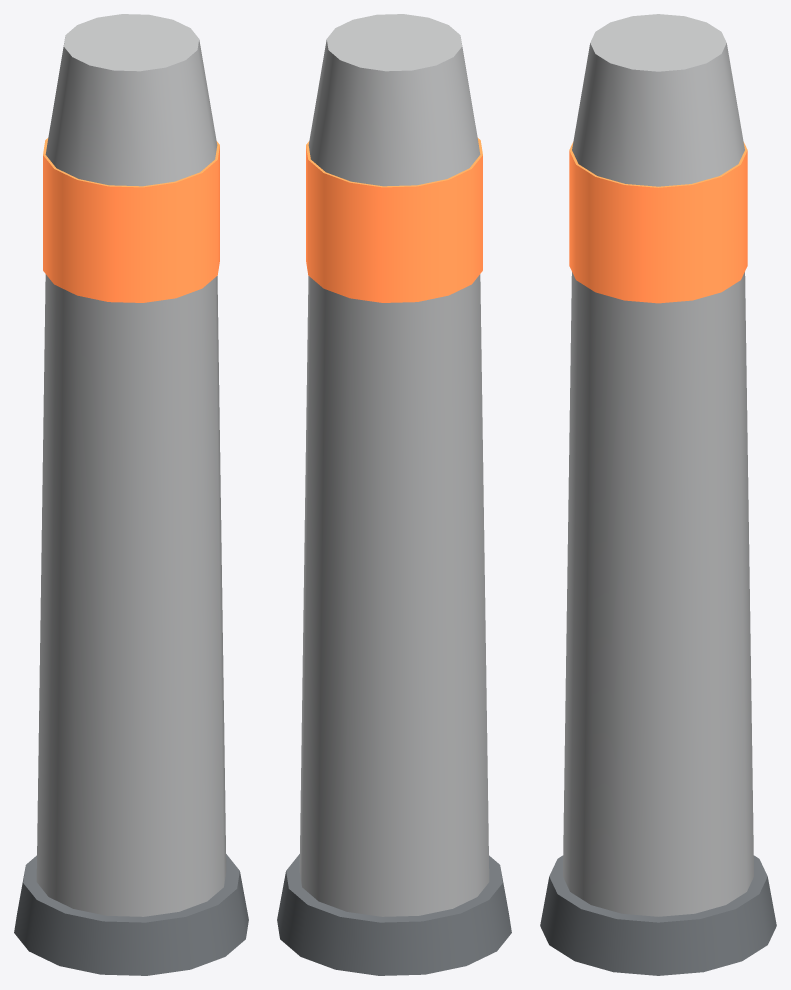
Rendered from bollard.glb.
3 views of the same model, side by side, from view 1: azimuth 30°, elevation 25°; view 2: azimuth 150°, elevation 25°; view 3: azimuth 270°, elevation 25° (orthographic).
Visible parts, largest first — view 1: Bollard; view 2: Bollard; view 3: Bollard.
Boxes of the visible parts, <box> form: Bollard: <box>14,14,248,975</box>; Bollard: <box>277,14,511,975</box>; Bollard: <box>540,14,776,975</box>.
Size of the model in its own units: 0.26 by 1.07 by 0.26.
